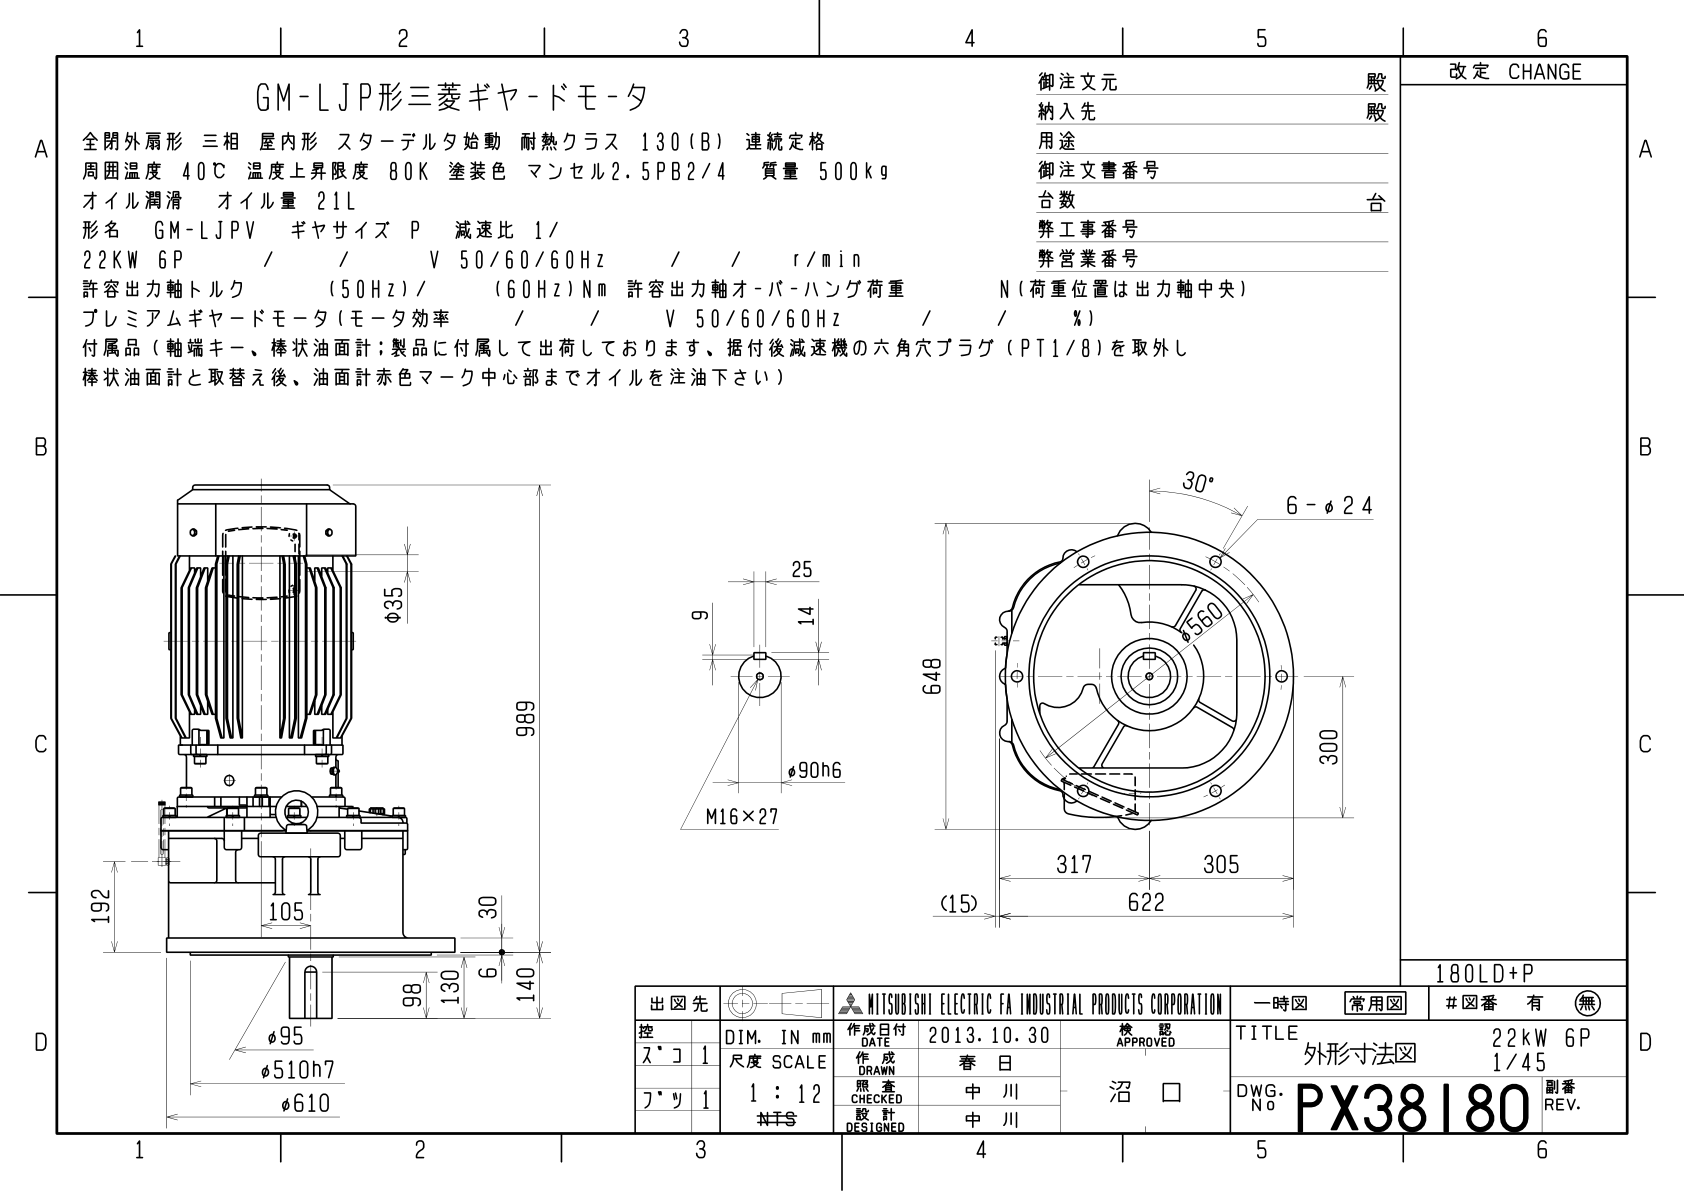GM_LJP_屋内_三相_立: (71, 437, 1392, 974)
